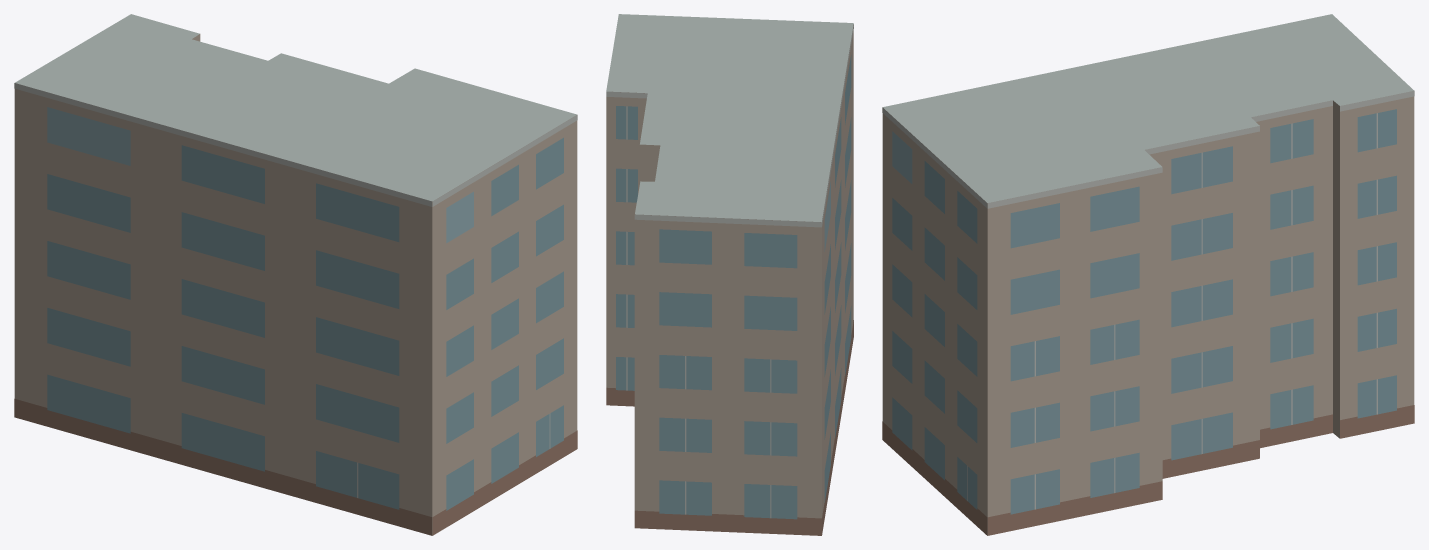
Rendered from survey-upis-32945990.glb.
The picture shows the model from 3 angles, left to right: view 1: azimuth 30°, elevation 25°; view 2: azimuth 150°, elevation 25°; view 3: azimuth 270°, elevation 25°; orthographic projection. The views are drawn at different scales.
Parts seen in each view (by area): view 1: survey-upis-32945990.tmp; view 2: survey-upis-32945990.tmp; view 3: survey-upis-32945990.tmp.
Part boxes in pixels (left/top/right/bottom): survey-upis-32945990.tmp: left=14, top=14, right=577, bottom=535; survey-upis-32945990.tmp: left=606, top=14, right=853, bottom=535; survey-upis-32945990.tmp: left=882, top=14, right=1414, bottom=535.
Size of the model in its own units: 17.57 by 14.4 by 20.88.
